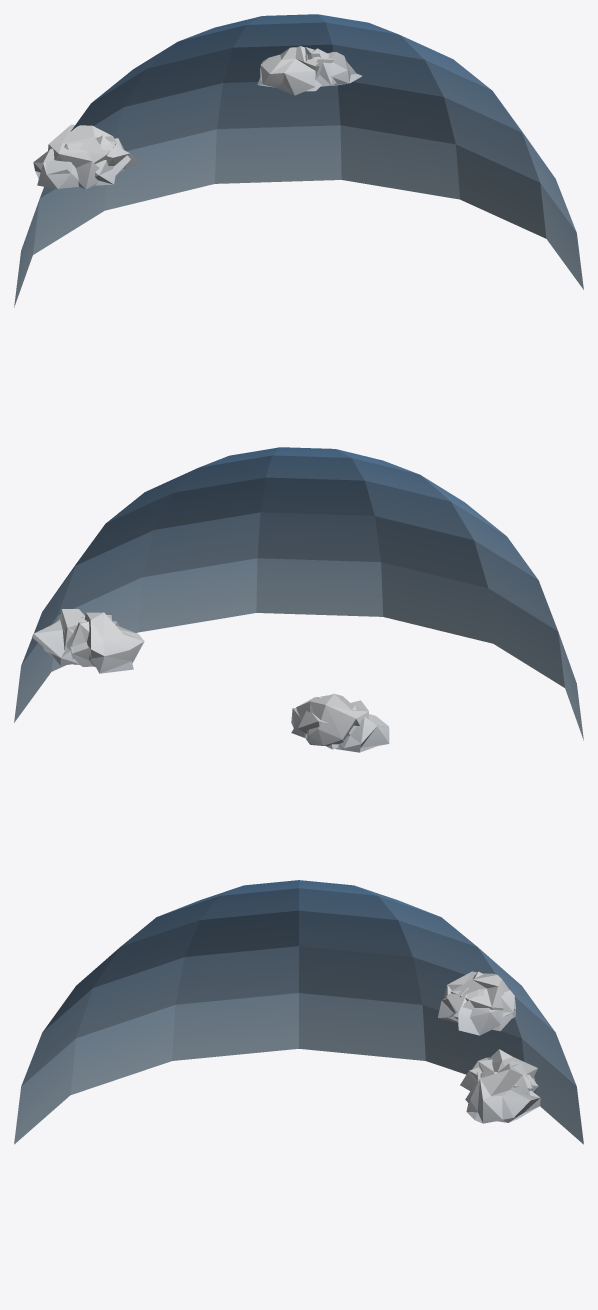
File: sky-day-dome-02.glb
The picture shows the model from 3 angles, top to bottom: view 1: azimuth 30°, elevation 25°; view 2: azimuth 150°, elevation 25°; view 3: azimuth 270°, elevation 25°; orthographic projection. The views are drawn at different scales.
Visible parts, largest first — view 1: sky_day_dome_02; view 2: sky_day_dome_02; view 3: sky_day_dome_02.
Part boxes in pixels (left/top/right/bottom): sky_day_dome_02: left=14, top=14, right=583, bottom=307; sky_day_dome_02: left=14, top=447, right=583, bottom=752; sky_day_dome_02: left=14, top=880, right=583, bottom=1144.
Bounding box in the file's own units: 5.2 × 2.6 × 5.07.
